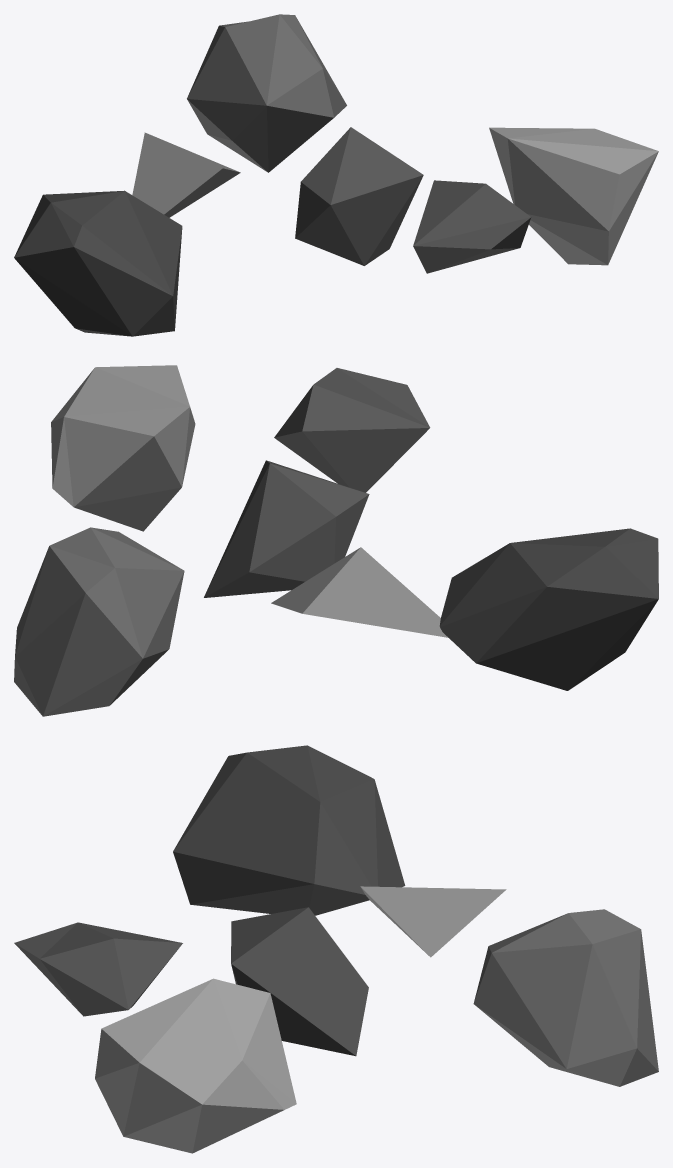
Rendered from stoun_props1.fbx.
3 renders of one model, top to bottom at view 1: azimuth 30°, elevation 25°; view 2: azimuth 150°, elevation 25°; view 3: azimuth 270°, elevation 25°, orthographic. The views are drawn at different scales.
Parts seen in each view (by area): view 1: Object.002; view 2: Object.002; view 3: Object.002.
Boxes of the visible parts, left/top/right/bottom form: Object.002: left=14, top=14, right=658, bottom=336; Object.002: left=14, top=365, right=658, bottom=716; Object.002: left=14, top=745, right=658, bottom=1153.
Bounding box in the file's own units: 78.69 × 20.06 × 66.94.
